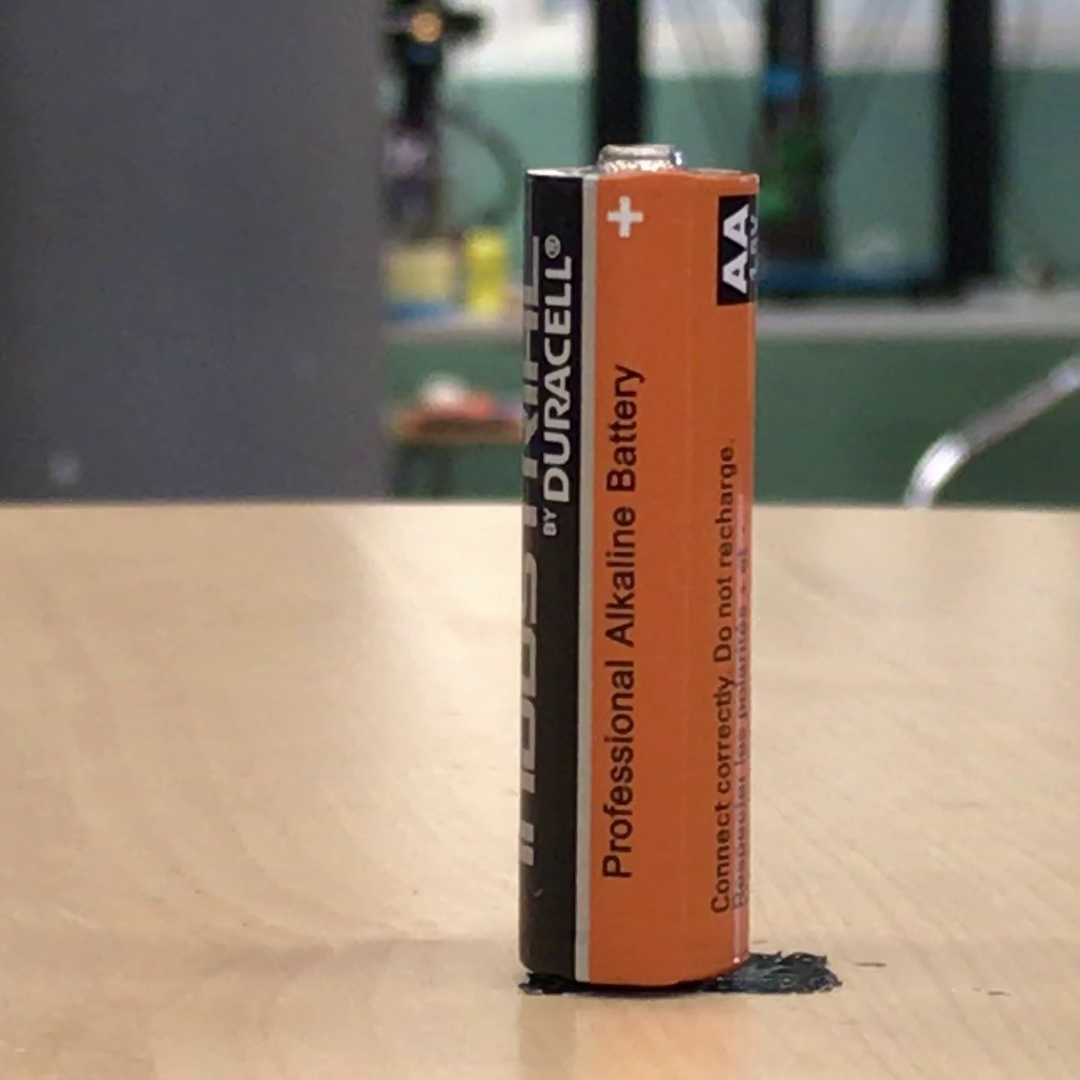keyword: (603, 496, 645, 658)
